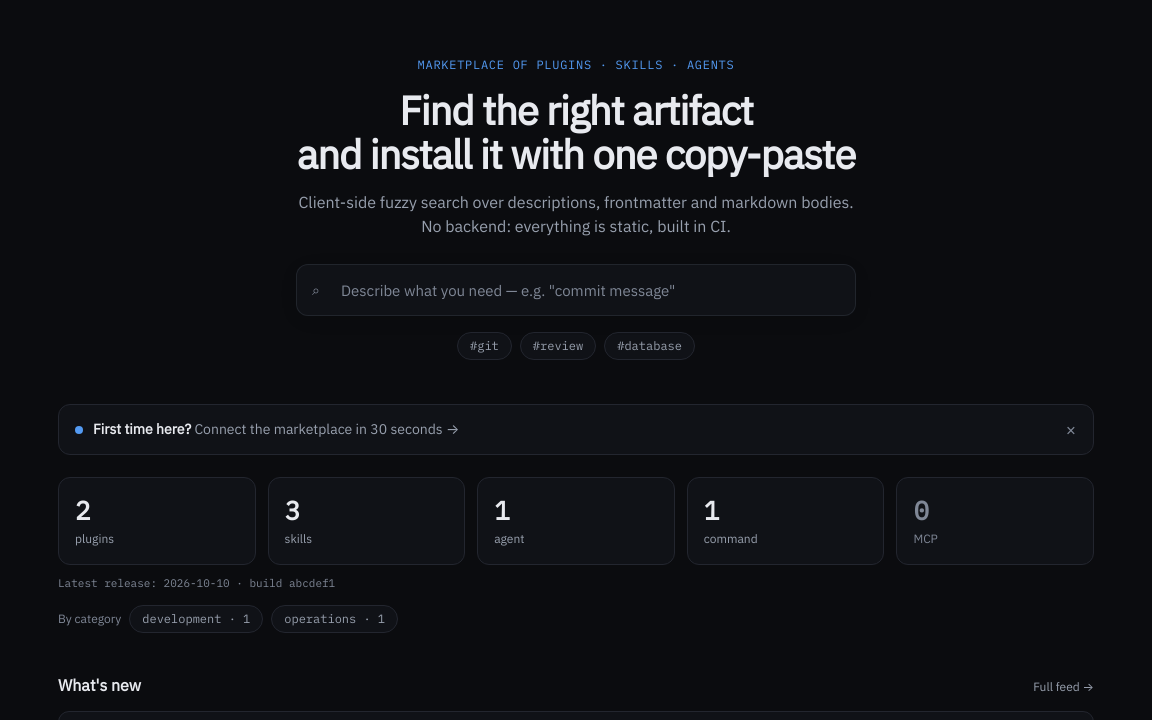
Test: Home sections › the onboarding banner can be dismissed and stays dismissed
Check: the text "First time here?" is shown, box [93,420,191,438]
Click the button named "Dismiss this banner" at [1071, 430], box [1055,414,1087,446]
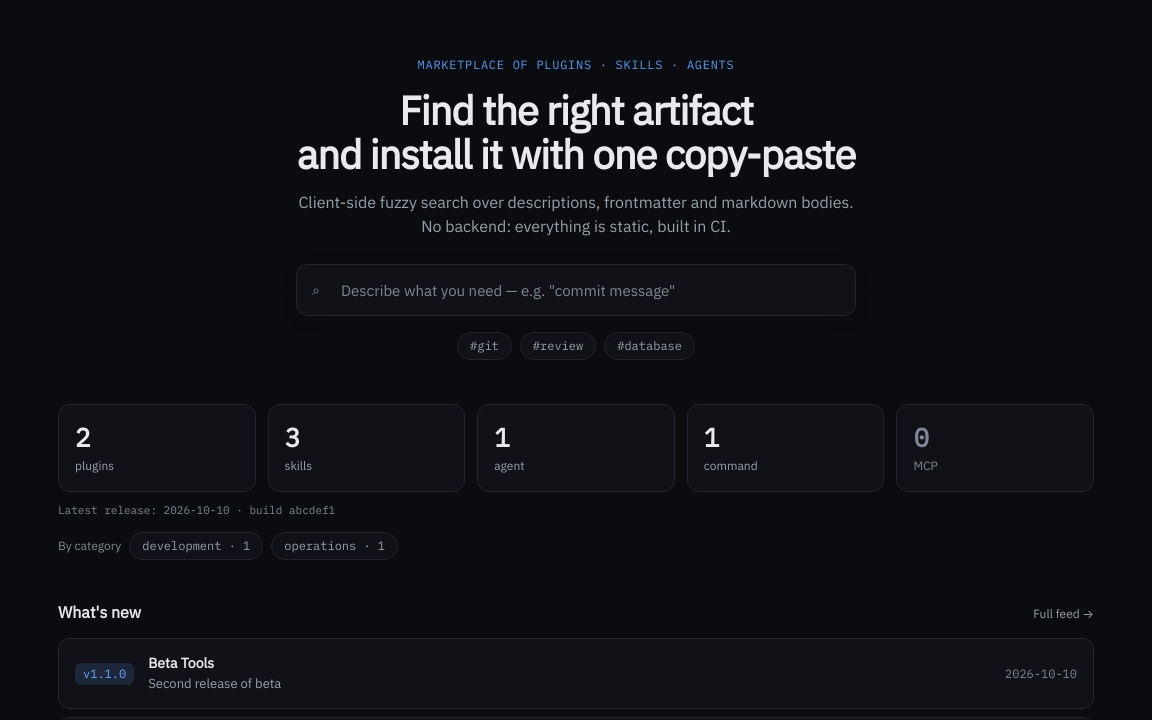
Check: the link "First time here?" is gone
